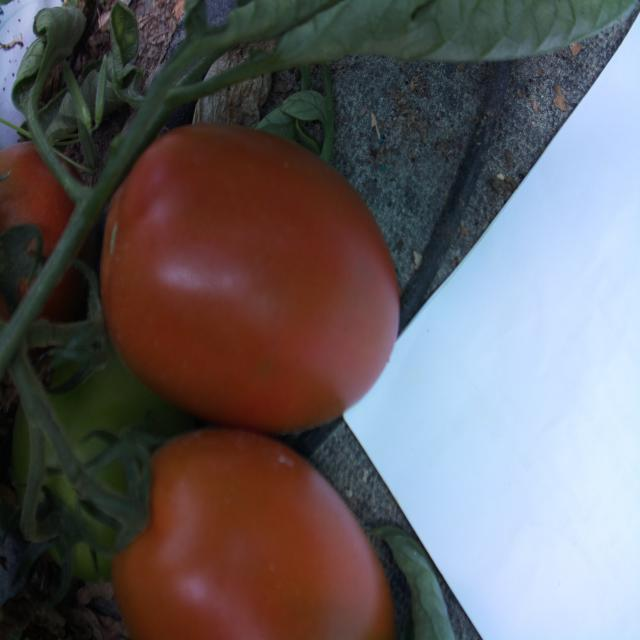kirmizi: (92, 122, 420, 640)
